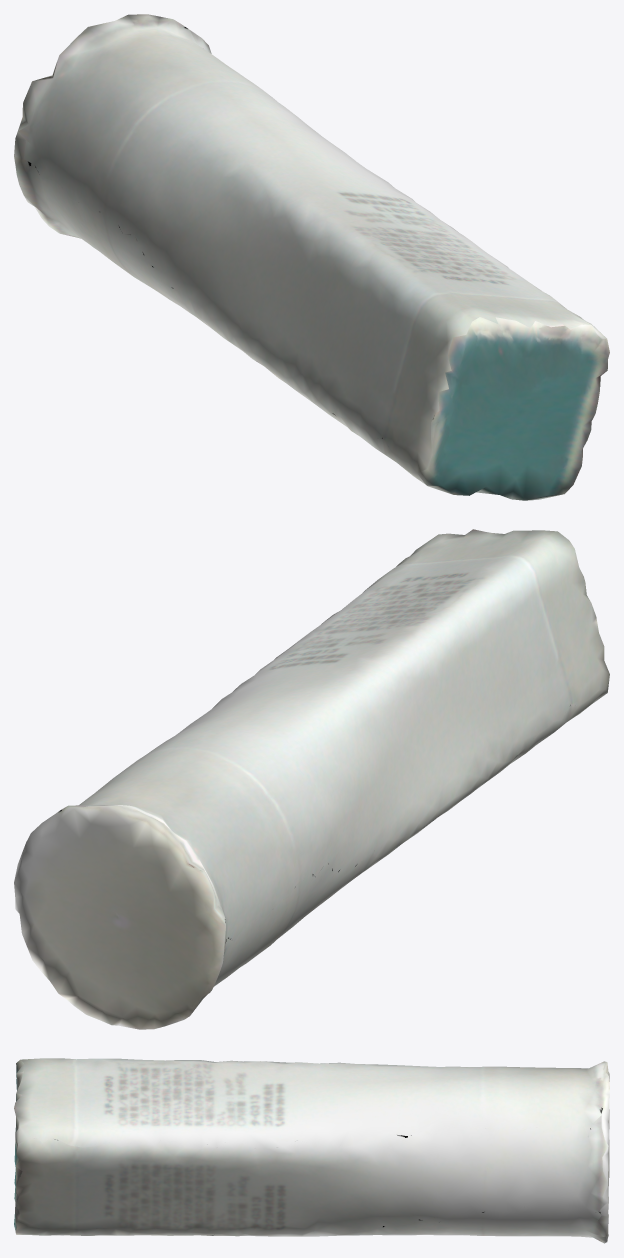
Rendered from scan_align.obj.
The picture shows the model from 3 angles, top to bottom: view 1: azimuth 30°, elevation 25°; view 2: azimuth 150°, elevation 25°; view 3: azimuth 270°, elevation 25°; orthographic projection. The views are drawn at different scales.
Bounding box in the file's own units: 0.0382 × 0.0383 × 0.126.
Materials: 1 (1 with a texture image).
